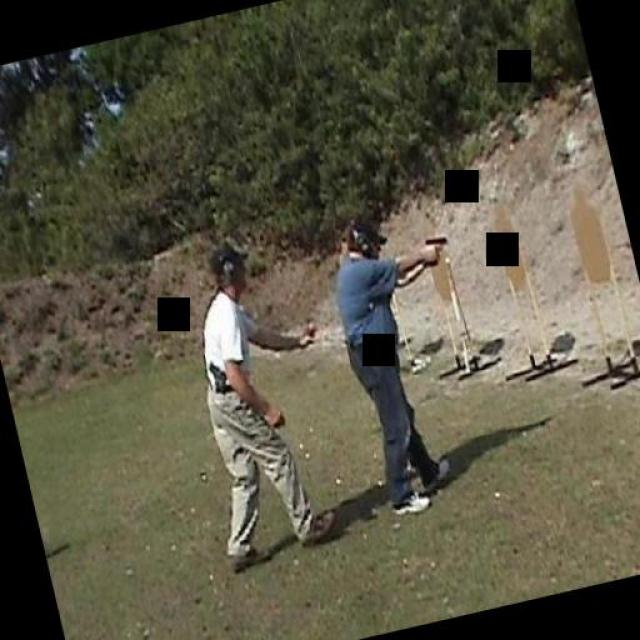gun: (419, 233, 451, 265)
